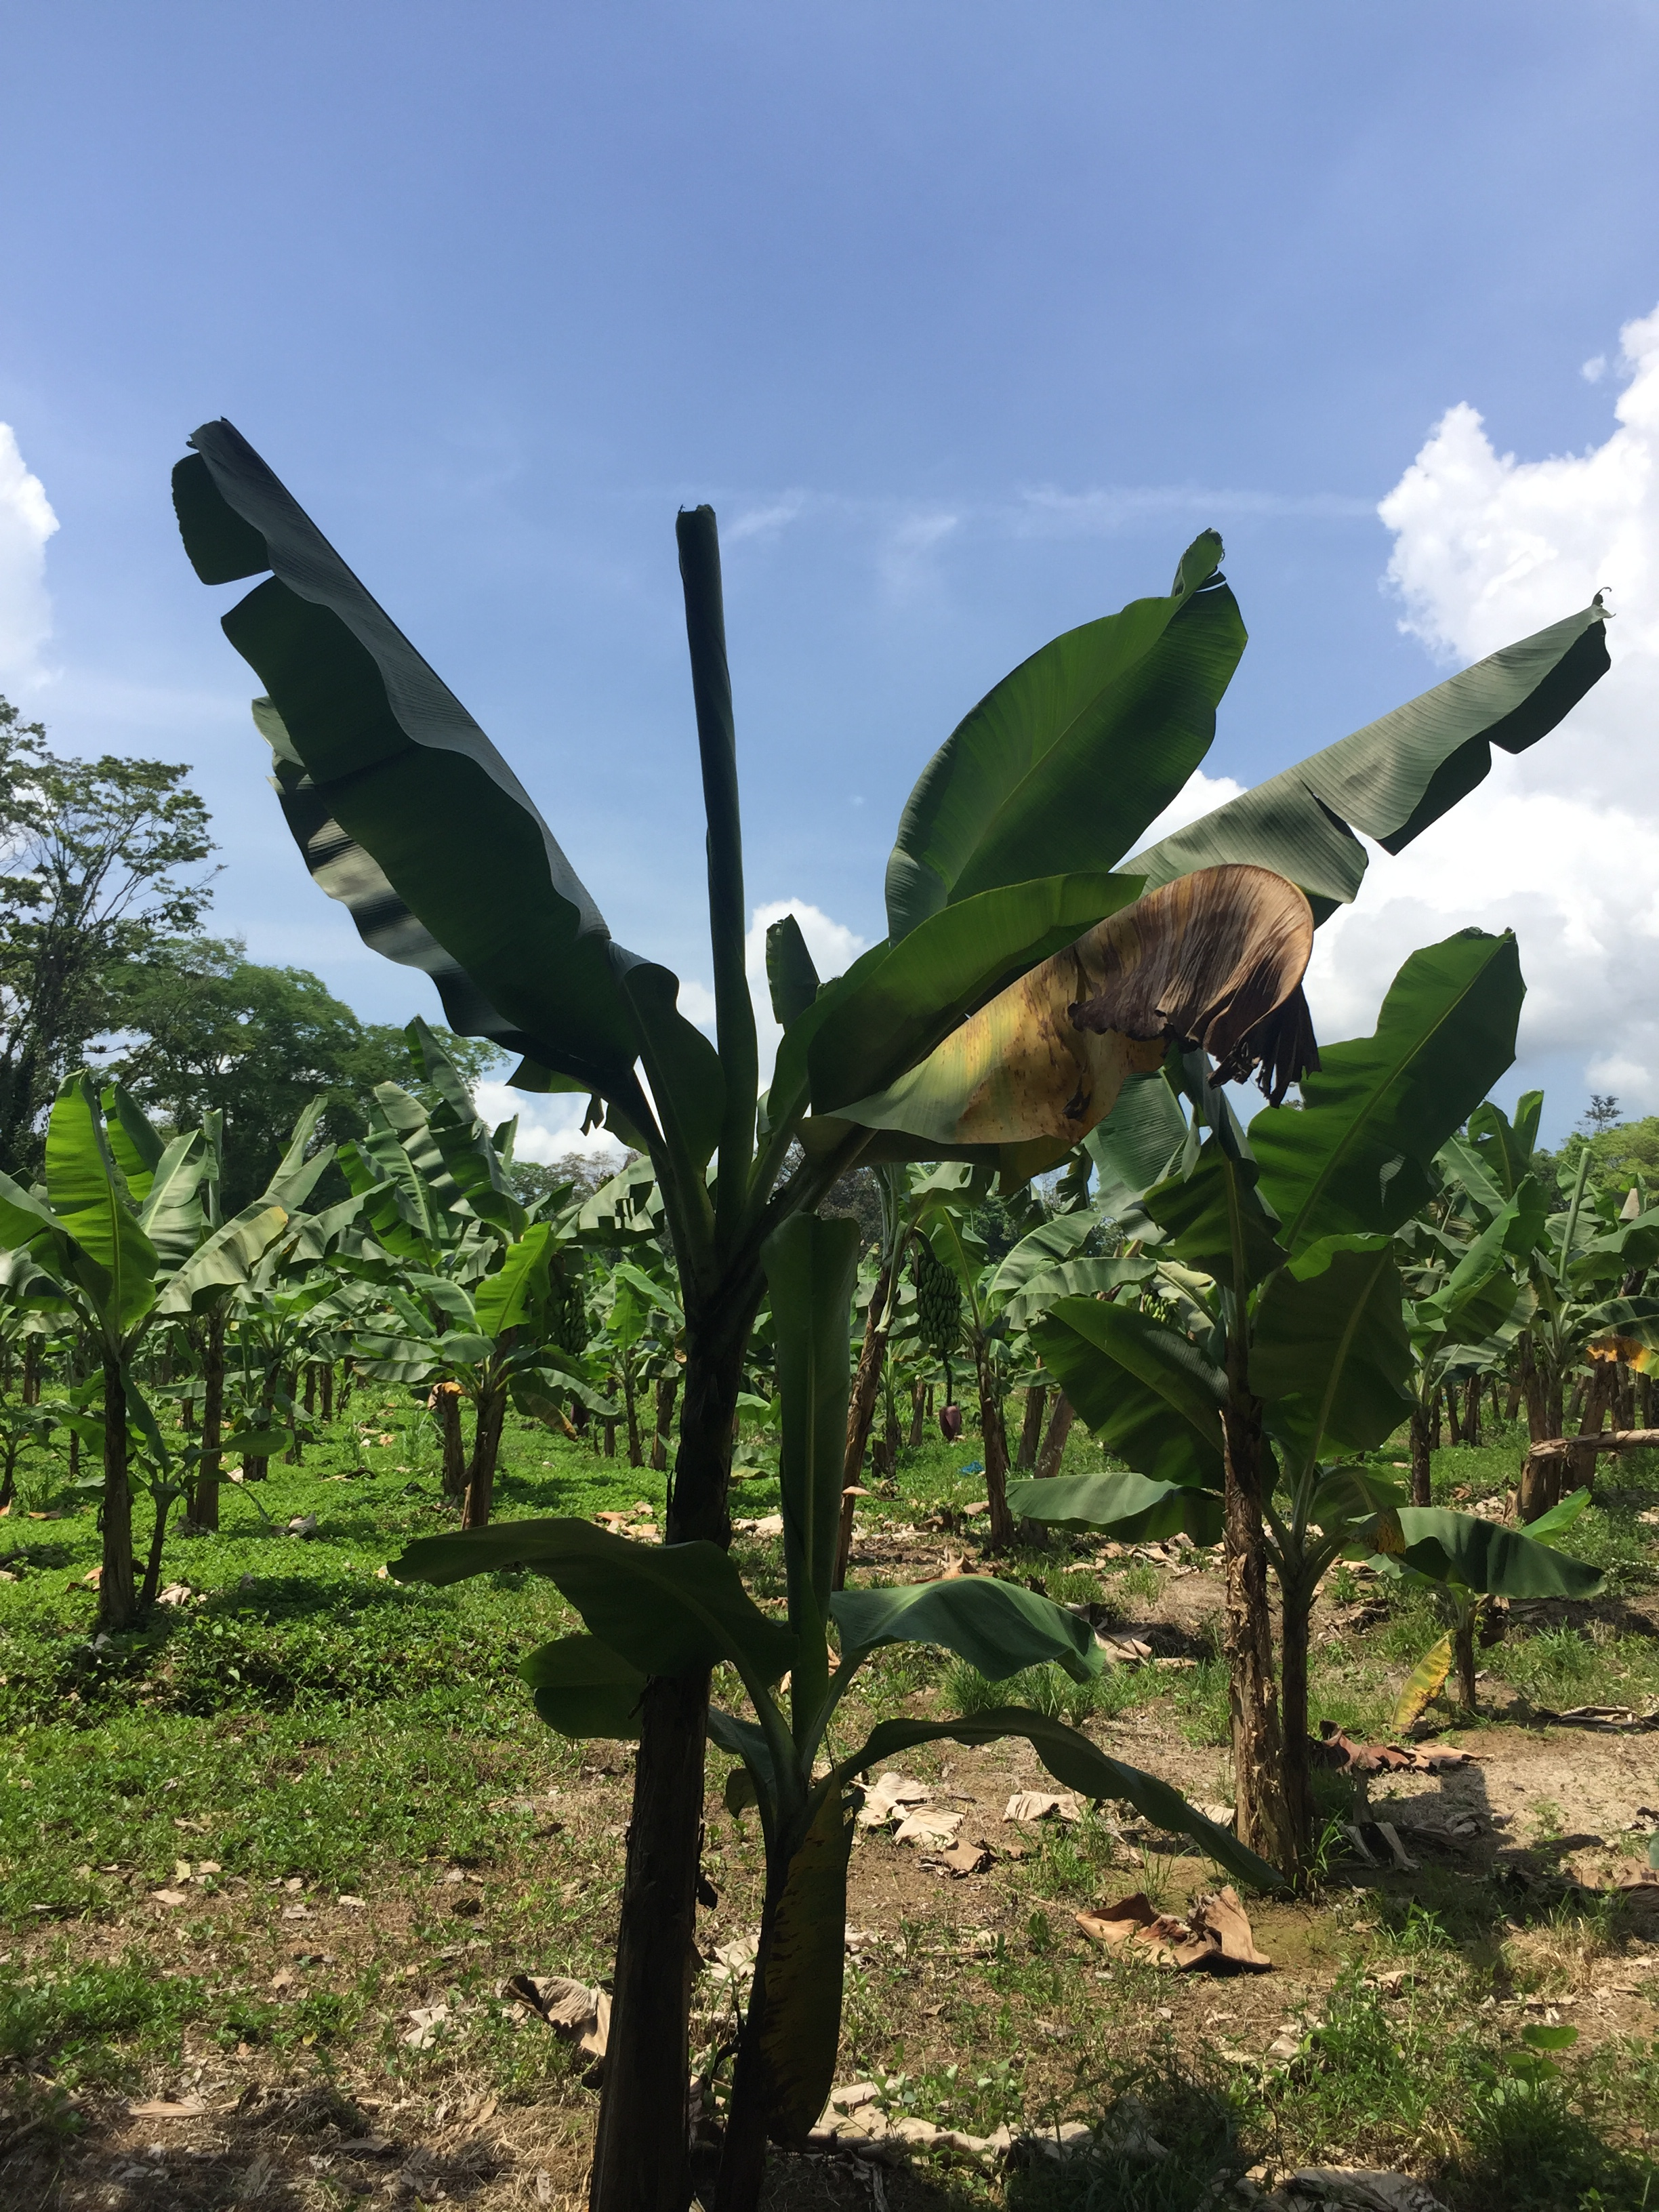candleleafs: (676, 503, 762, 1207), (1558, 1146, 1595, 1282)
